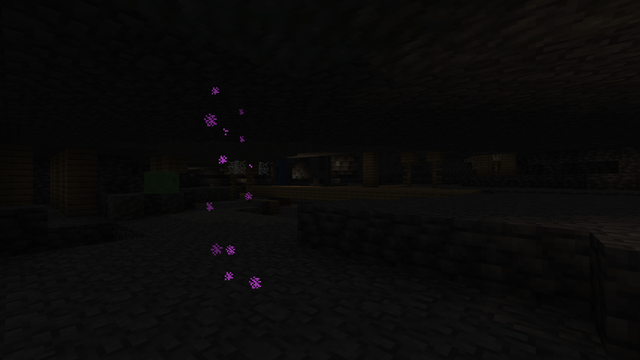slimes: (145, 170, 177, 193)
